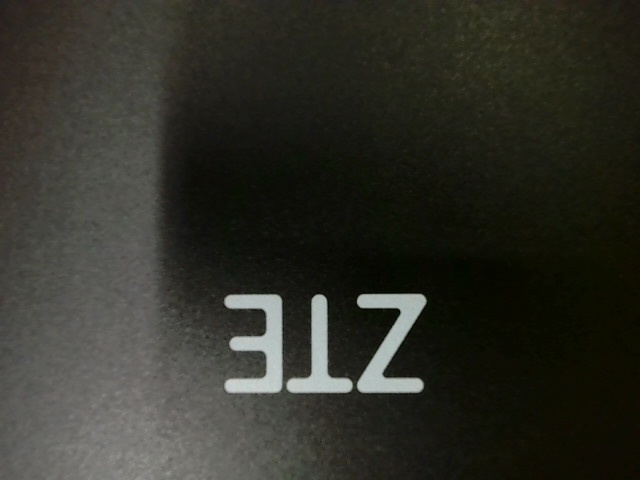AN_ZTE: (212, 279, 446, 403)
